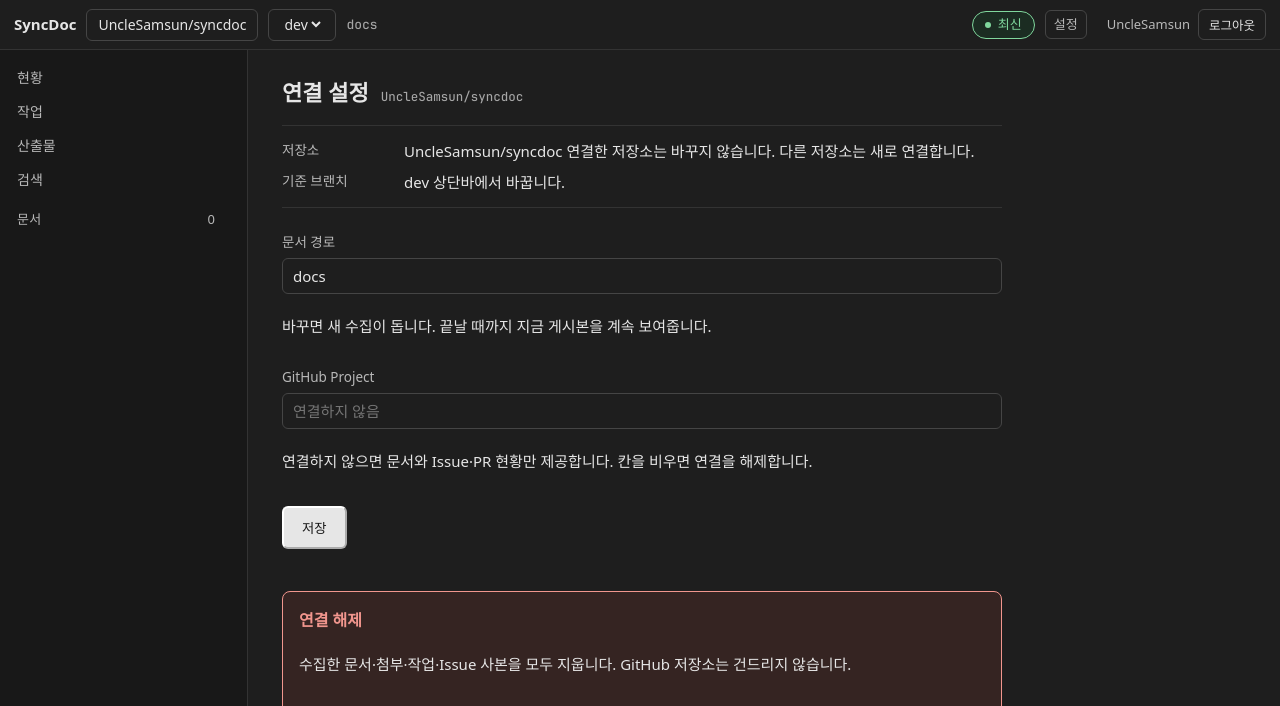
Test case: UI-015 연결 설정 › shows the server's own words for a rejected path
Step 1. Replace the text in the field labelled "문서 경로" with "spec" → (642, 276), box [282, 258, 1002, 294]
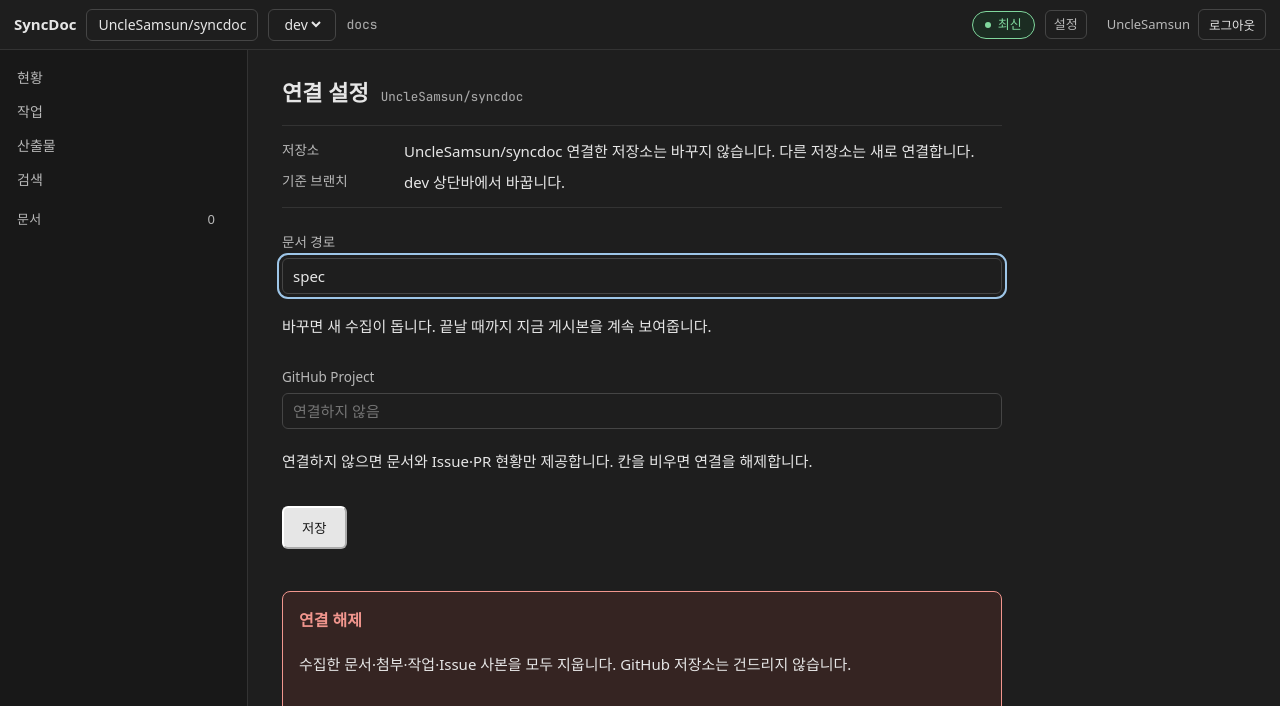
Step 2. Click the button "저장" → (314, 527), box [282, 506, 346, 548]
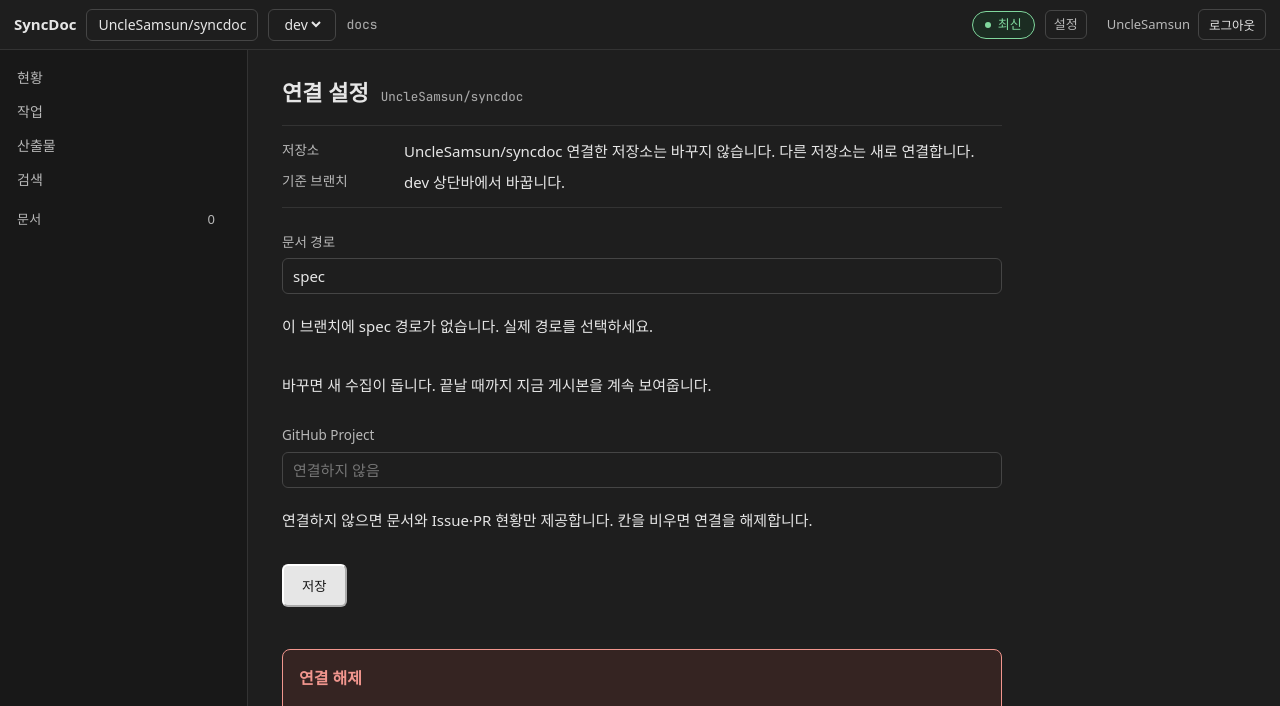
Expected: the text "이 브랜치에 spec 경로가 없습니다. 실제 경로를 선택하세요." is shown, [282, 316, 653, 336]
